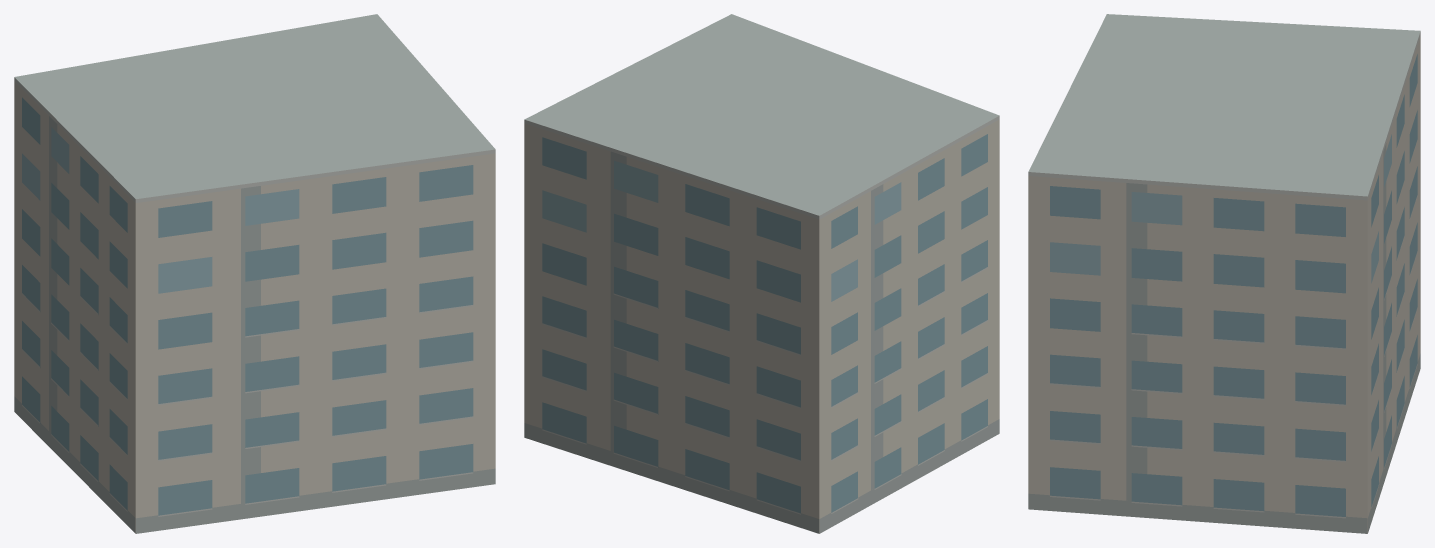
Rendered from residential-ba26b085-ec2f-4b0b-9029-233b620c80c3.glb.
3 views of the same model, side by side, from view 1: azimuth 30°, elevation 25°; view 2: azimuth 150°, elevation 25°; view 3: azimuth 270°, elevation 25° (orthographic). The views are drawn at different scales.
Visible parts, largest first — view 1: residential-ba26b085-ec2f-4b0b-9029-233b620c80c3.tmp; view 2: residential-ba26b085-ec2f-4b0b-9029-233b620c80c3.tmp; view 3: residential-ba26b085-ec2f-4b0b-9029-233b620c80c3.tmp.
Boxes of the visible parts, x1=… form: residential-ba26b085-ec2f-4b0b-9029-233b620c80c3.tmp: x1=14, y1=14, x2=495, y2=533; residential-ba26b085-ec2f-4b0b-9029-233b620c80c3.tmp: x1=524, y1=14, x2=999, y2=533; residential-ba26b085-ec2f-4b0b-9029-233b620c80c3.tmp: x1=1028, y1=14, x2=1420, y2=533.
Size of the model in its own units: 24.37 by 21 by 22.14.
